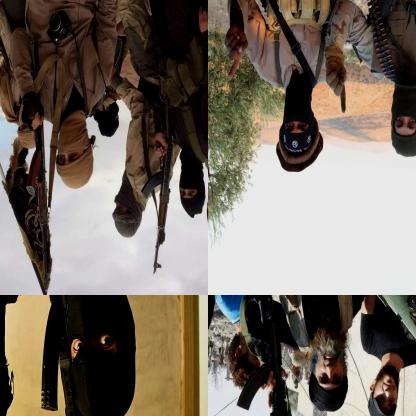rifle: (25, 295, 95, 415), (237, 295, 296, 415), (24, 91, 52, 290), (139, 136, 179, 274)
